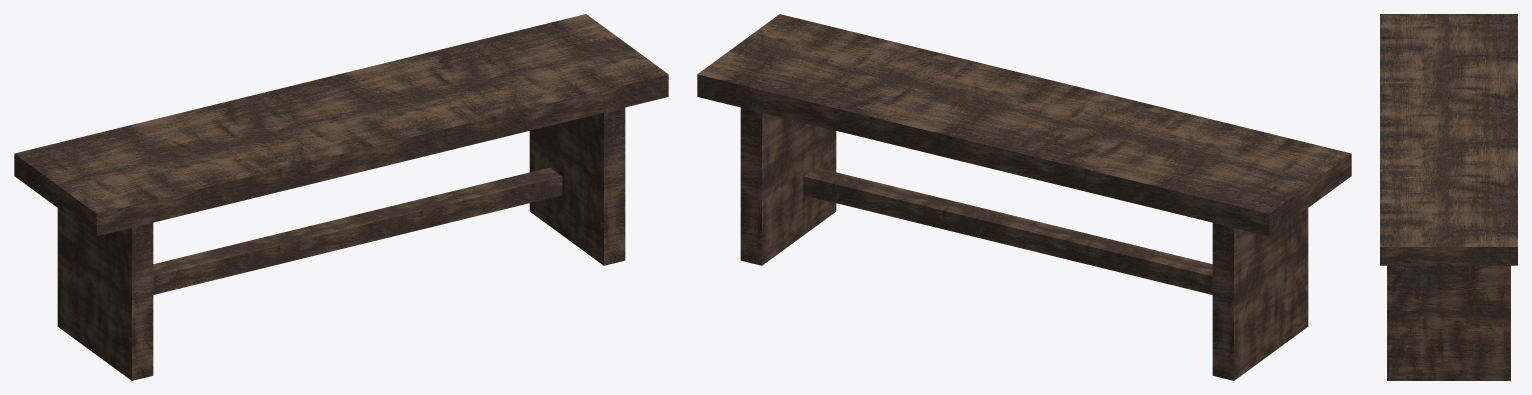
Rendered from prop_bench_v2.glb.
3 views of the same model, side by side, from view 1: azimuth 30°, elevation 25°; view 2: azimuth 150°, elevation 25°; view 3: azimuth 270°, elevation 25° (orthographic). The views are drawn at different scales.
Visible parts, largest first — view 1: prop_bench_v2; view 2: prop_bench_v2; view 3: prop_bench_v2.
Part boxes in pixels (bbox=[...]): prop_bench_v2: bbox=[14, 14, 668, 380]; prop_bench_v2: bbox=[697, 14, 1351, 380]; prop_bench_v2: bbox=[1380, 14, 1517, 380].
Bounding box in the file's own units: 1.6 × 0.48 × 0.4.
1 material, 1 textured.
